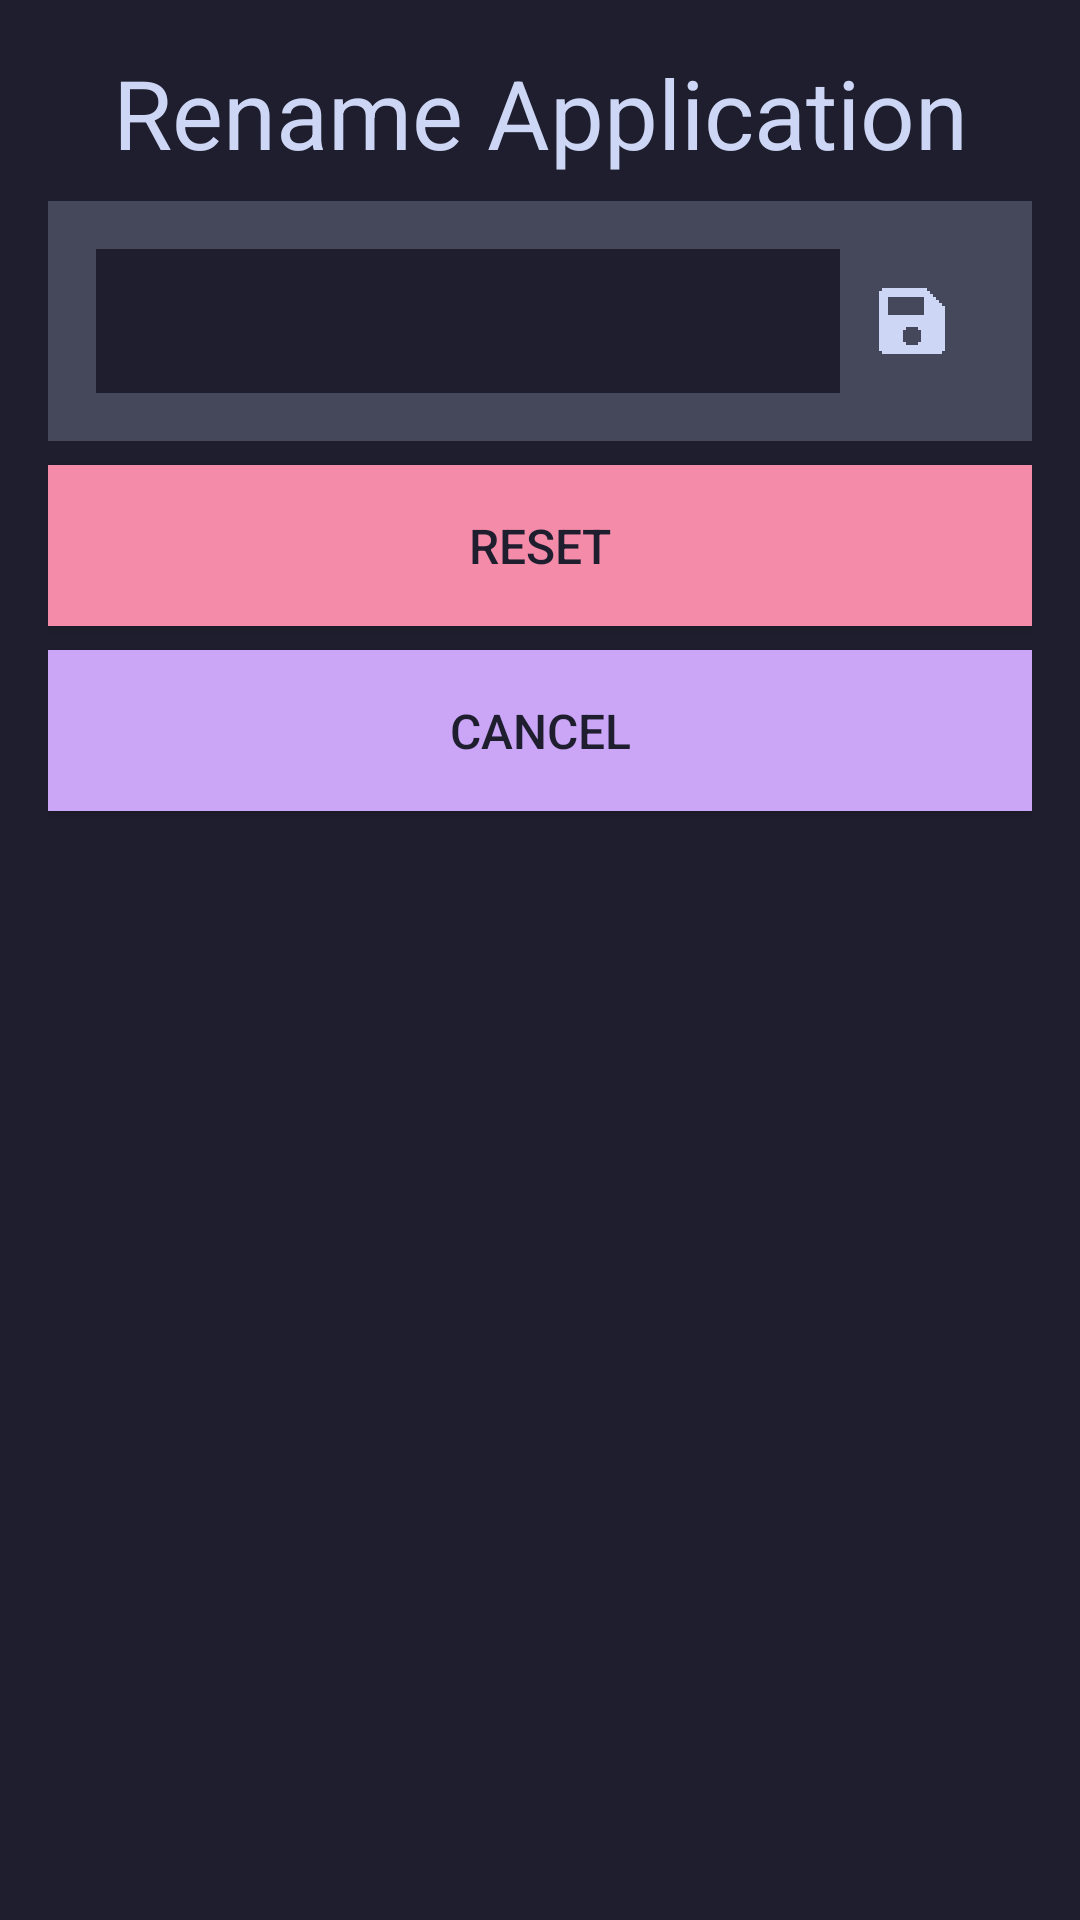

Locate icon controls on the screen. Image size 1080x1920, boxes as (x1, y1, x2, y2).
disk: (879, 288, 945, 354)
